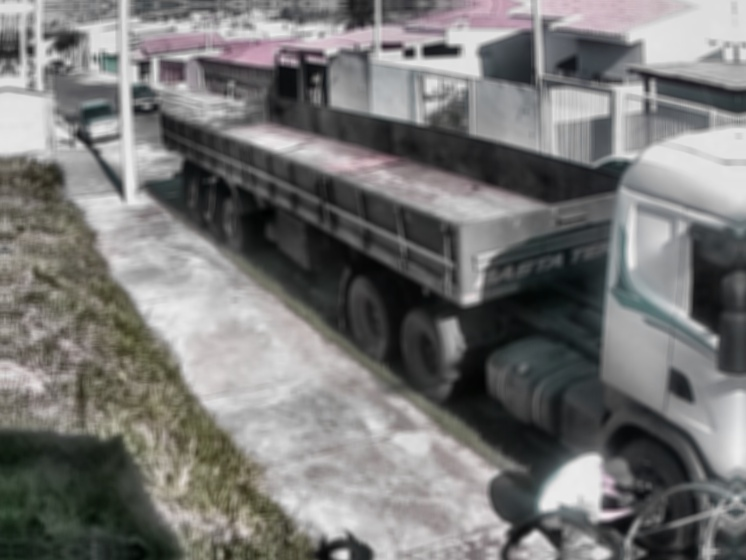person: (531, 449, 633, 560)
